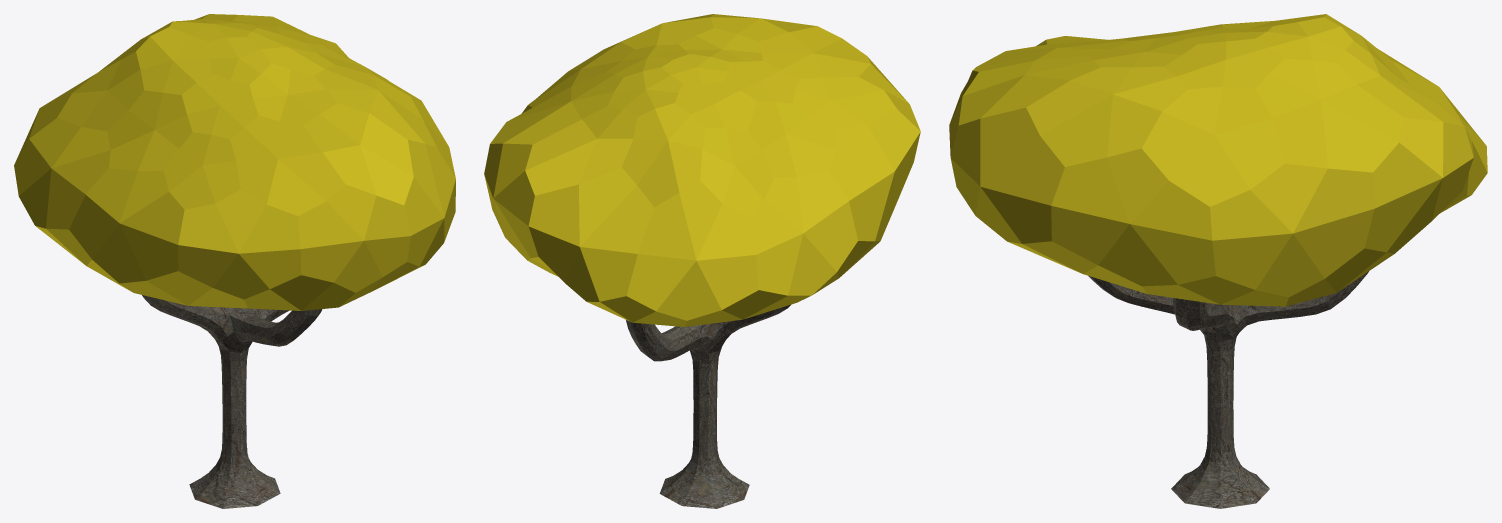
The model's file is YellowTree.fbx.
3 renders of one model, left to right at view 1: azimuth 30°, elevation 25°; view 2: azimuth 150°, elevation 25°; view 3: azimuth 270°, elevation 25°, orthographic. The views are drawn at different scales.
Parts seen in each view (by area): view 1: TreeTest.002; view 2: TreeTest.002; view 3: TreeTest.002.
Part boxes in pixels (<box>): TreeTest.002: <box>14,14,455,508</box>; TreeTest.002: <box>484,14,920,508</box>; TreeTest.002: <box>949,14,1487,508</box>.
Bounding box in the file's own units: 600 × 480 × 576.
